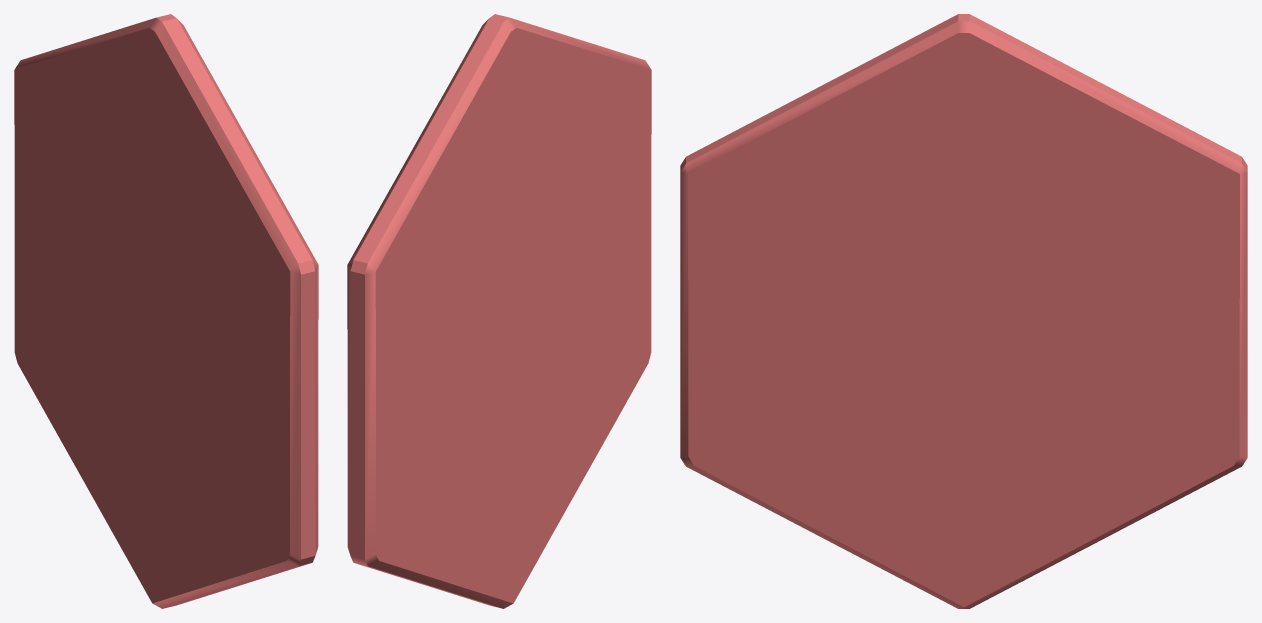
File: p_HexagonShape.fbx
3 views of the same model, side by side, from view 1: azimuth 30°, elevation 25°; view 2: azimuth 150°, elevation 25°; view 3: azimuth 270°, elevation 25° (orthographic).
Parts seen in each view (by area): view 1: p_HexagonShape; view 2: p_HexagonShape; view 3: p_HexagonShape.
Part boxes in pixels (left/top/right/bottom): p_HexagonShape: left=14, top=14, right=318, bottom=608; p_HexagonShape: left=347, top=14, right=651, bottom=608; p_HexagonShape: left=680, top=14, right=1247, bottom=608.
Size of the model in its own units: 0.1 by 1.98 by 1.73.
